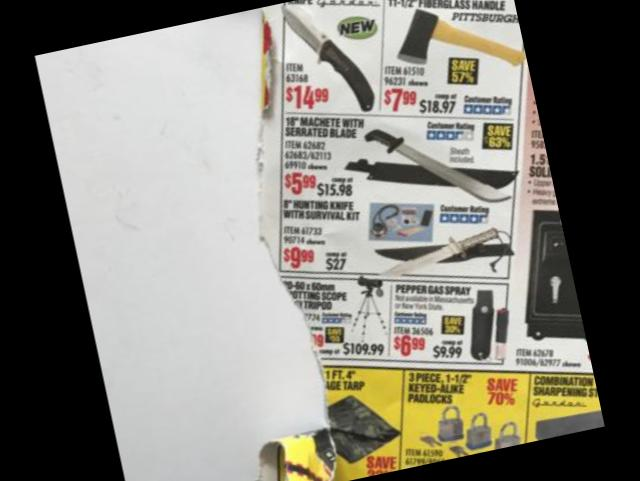cardboard paper: (263, 0, 605, 481)
